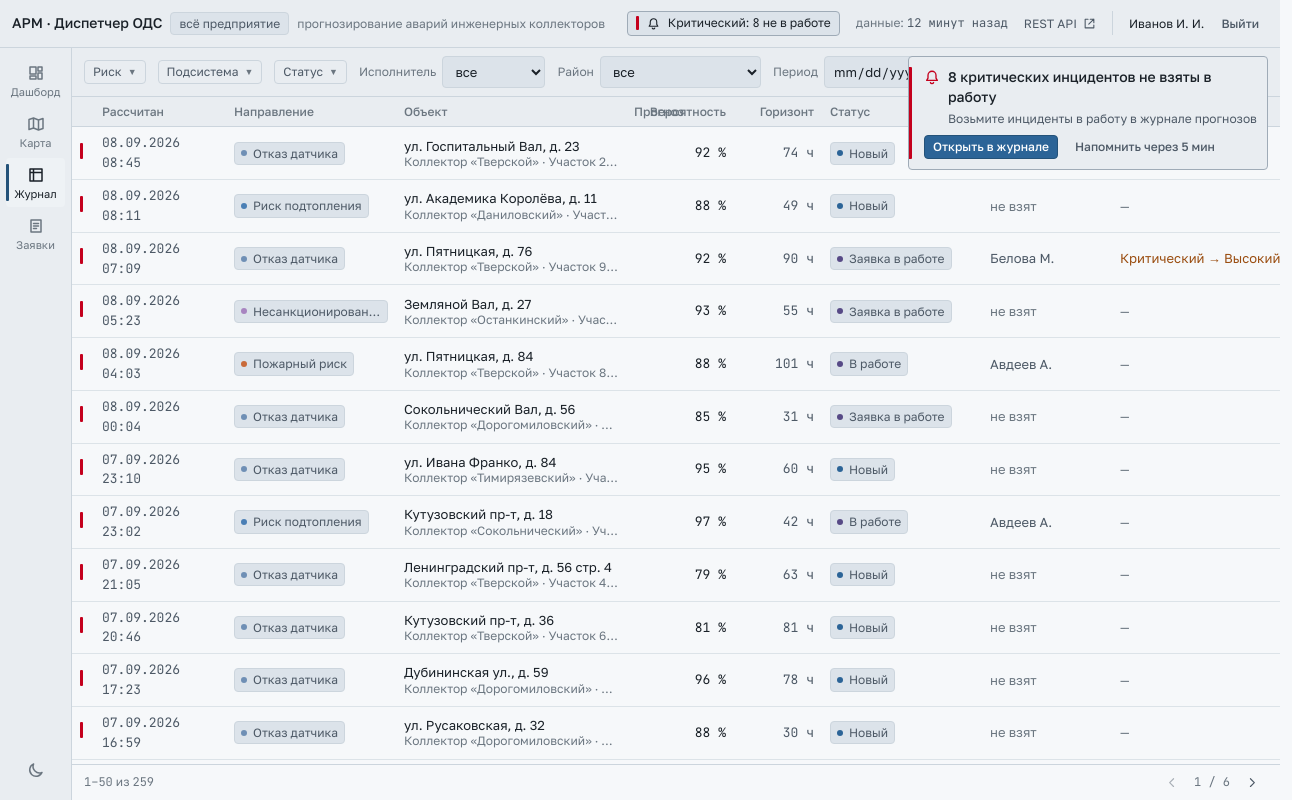
it: новое направление, о котором фронтенд не знает › появляется в фильтрах журнала
Click the heading "Подсистема ▼". click: (210, 72)
box: [158, 60, 262, 84]
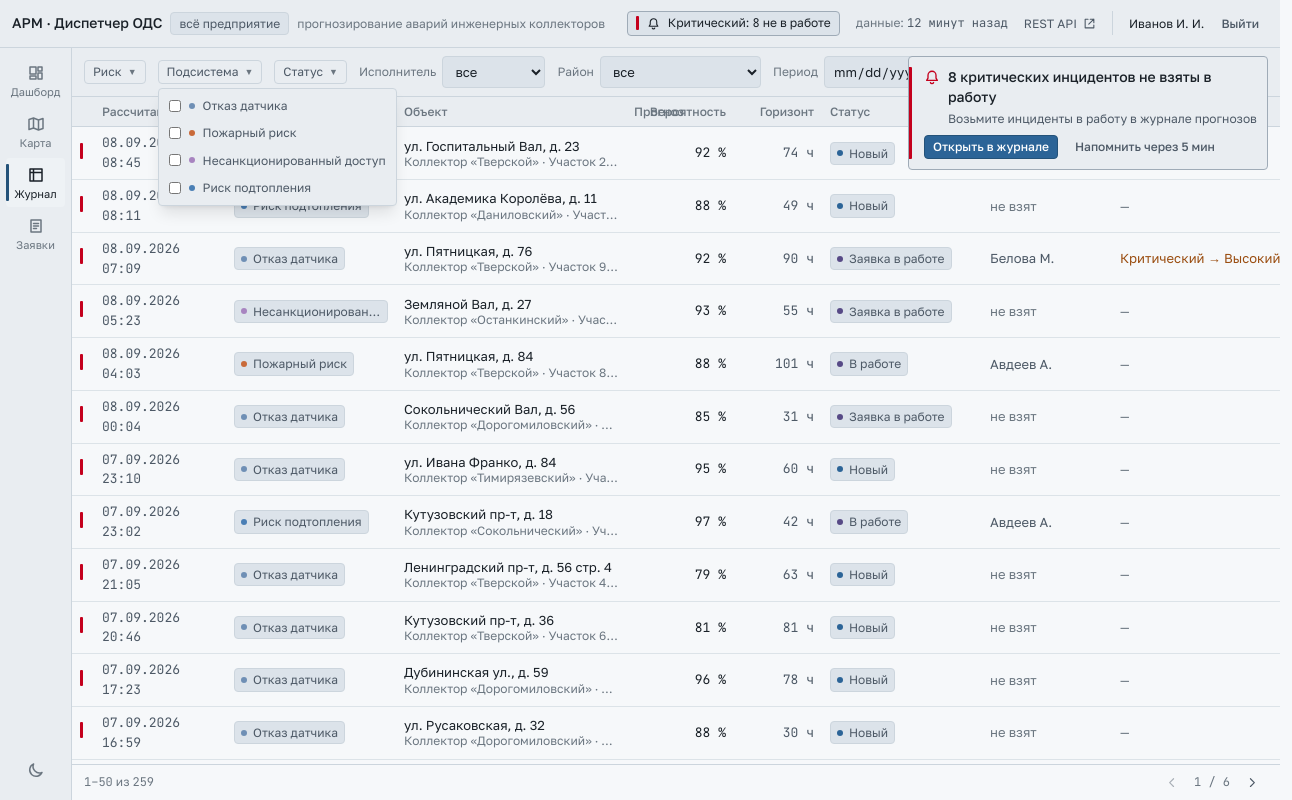
Result: the checkbox labelled "Риск подтопления" is shown at [168, 182, 180, 194]
